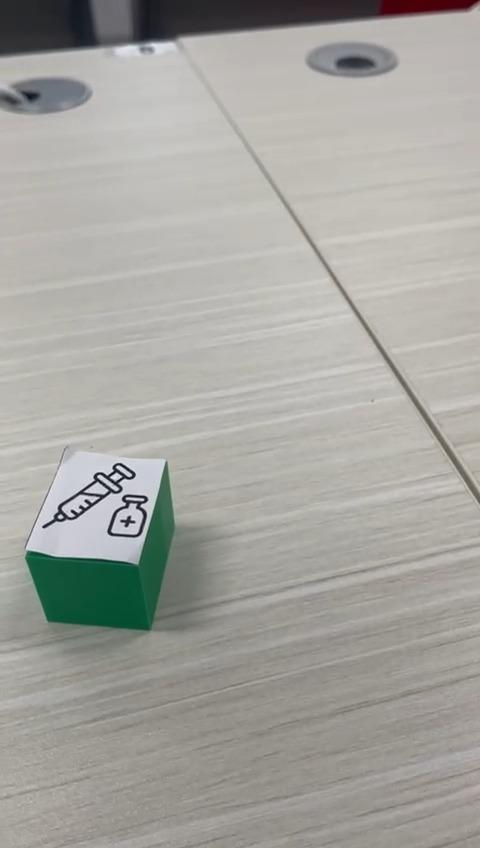antiseptic cream: (23, 443, 176, 631)
